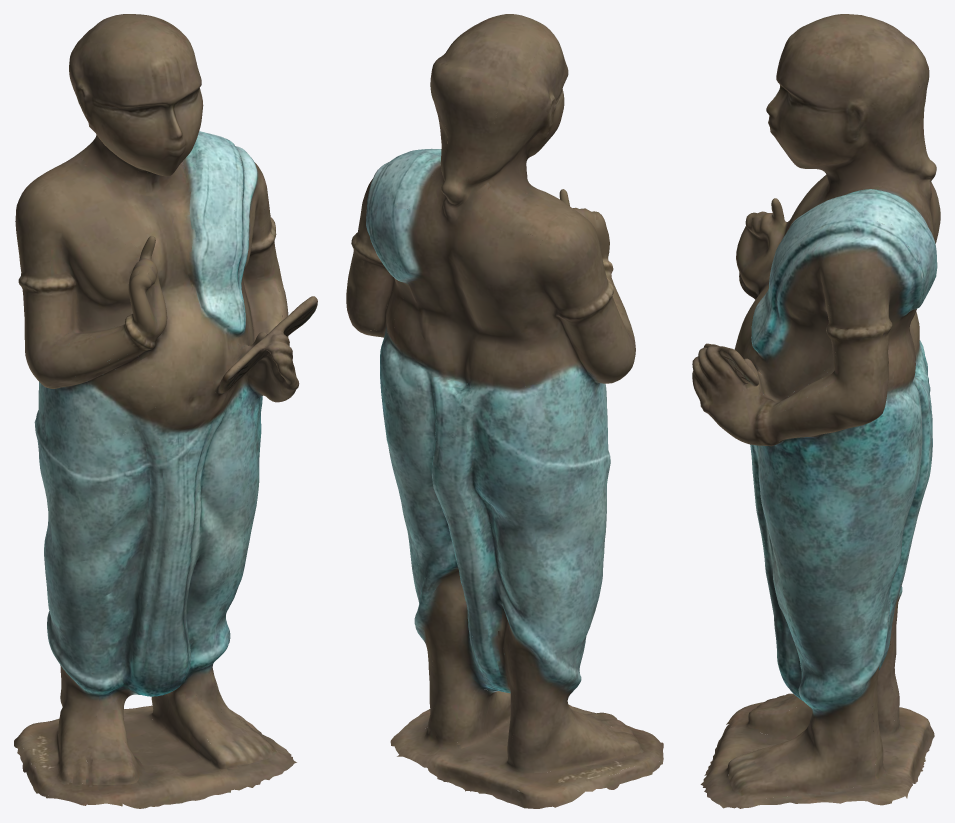
File: sacred-gaze.glb
The picture shows the model from 3 angles, left to right: view 1: azimuth 30°, elevation 25°; view 2: azimuth 150°, elevation 25°; view 3: azimuth 270°, elevation 25°; orthographic projection. The views are drawn at different scales.
Parts seen in each view (by area): view 1: Pandit_export; view 2: Pandit_export; view 3: Pandit_export.
Boxes of the visible parts, box(x1,y1,x2,y2) form: Pandit_export: box(14, 14, 317, 808); Pandit_export: box(346, 14, 663, 808); Pandit_export: box(692, 14, 940, 808).
Bounding box in the file's own units: 0.194 × 0.5 × 0.1504.
1 material, 1 textured.
